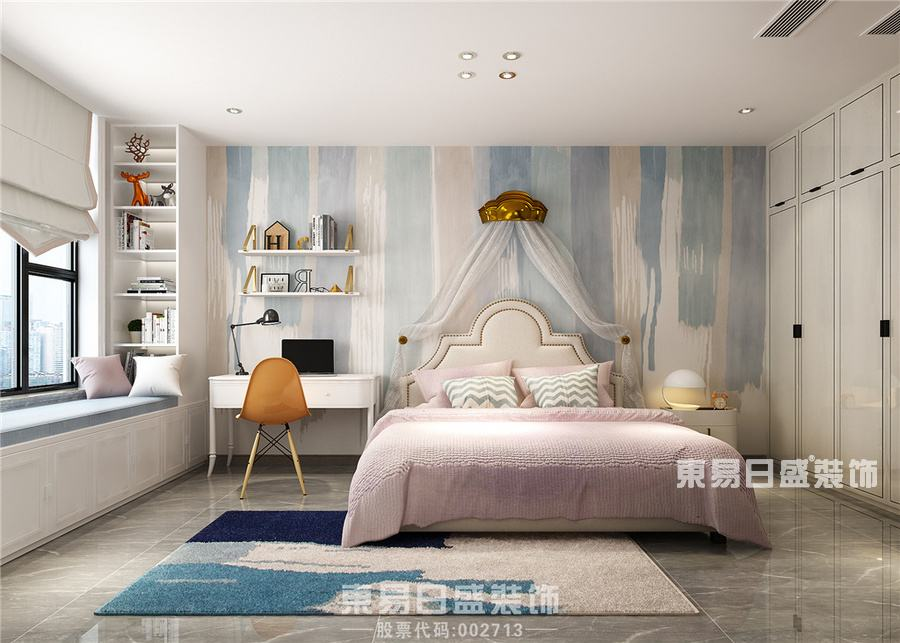床: (379, 403, 761, 547)
枕头: (405, 358, 621, 418), (68, 353, 181, 401)
灯: (222, 306, 286, 376), (661, 371, 710, 415), (732, 101, 757, 120), (501, 46, 523, 65), (220, 103, 244, 119), (455, 67, 478, 83), (456, 50, 478, 66), (497, 72, 518, 83)
